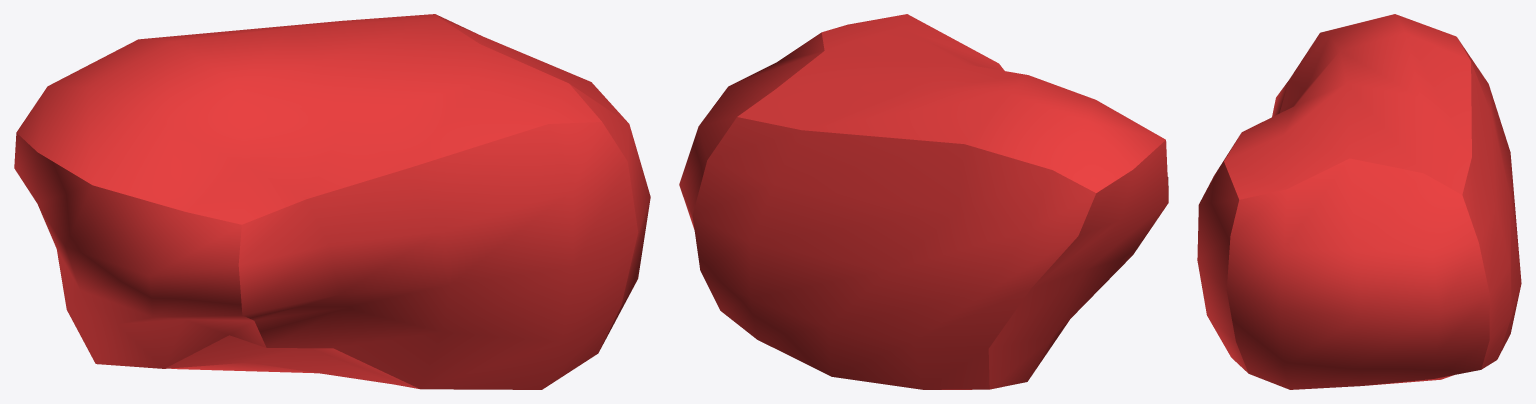
Rendered from giblet1.fbx.
3 views of the same model, side by side, from view 1: azimuth 30°, elevation 25°; view 2: azimuth 150°, elevation 25°; view 3: azimuth 270°, elevation 25° (orthographic). The views are drawn at different scales.
Parts seen in each view (by area): view 1: pCube1; view 2: pCube1; view 3: pCube1.
Boxes of the visible parts, bbox=[...] form: pCube1: bbox=[14, 14, 650, 389]; pCube1: bbox=[679, 14, 1168, 389]; pCube1: bbox=[1197, 14, 1521, 389].
Size of the model in its own units: 1.2 by 0.7441 by 0.8258.
